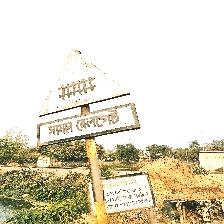Rail-crossing: (37, 50, 138, 146)
